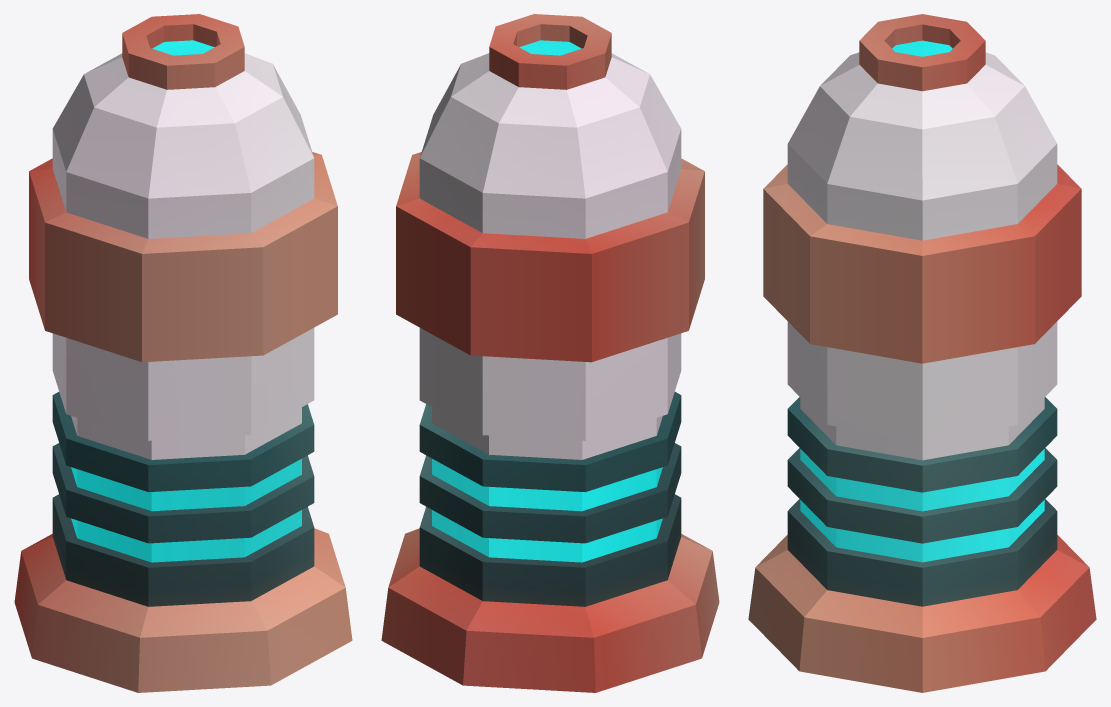
The model's file is Cilinder.fbx.
The picture shows the model from 3 angles, left to right: view 1: azimuth 30°, elevation 25°; view 2: azimuth 150°, elevation 25°; view 3: azimuth 270°, elevation 25°; orthographic projection.
Parts seen in each view (by area): view 1: Cilinder; view 2: Cilinder; view 3: Cilinder.
Part boxes in pixels (<box>): Cilinder: <box>14,14,352,692</box>; Cilinder: <box>381,14,719,692</box>; Cilinder: <box>748,14,1096,692</box>.
Bounding box in the file's own units: 57.28 × 105 × 57.28.
